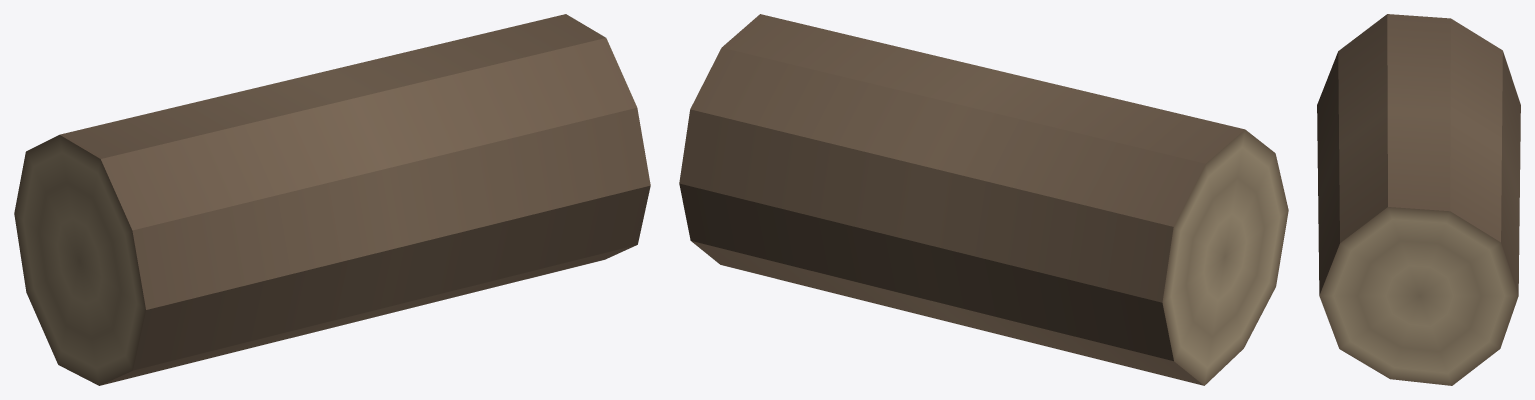
Rendered from drop_log_a.glb.
3 renders of one model, left to right at view 1: azimuth 30°, elevation 25°; view 2: azimuth 150°, elevation 25°; view 3: azimuth 270°, elevation 25°, orthographic. The views are drawn at different scales.
Visible parts, largest first — view 1: drop_log_a; view 2: drop_log_a; view 3: drop_log_a.
Part boxes in pixels (x1,y1,x2,y2): drop_log_a: (14,14,650,385); drop_log_a: (679,14,1288,385); drop_log_a: (1317,14,1520,385).
Bounding box in the file's own units: 0.62 × 0.2773 × 0.2798.
